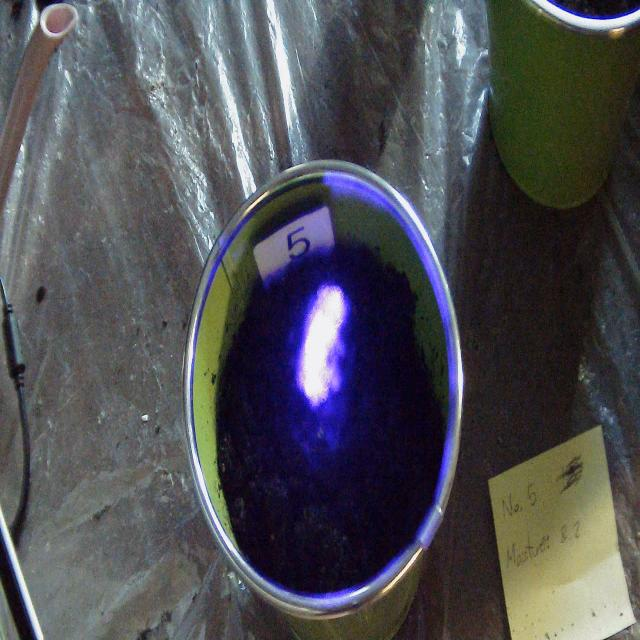soil-moisture-8.2: (297, 286, 351, 417)
